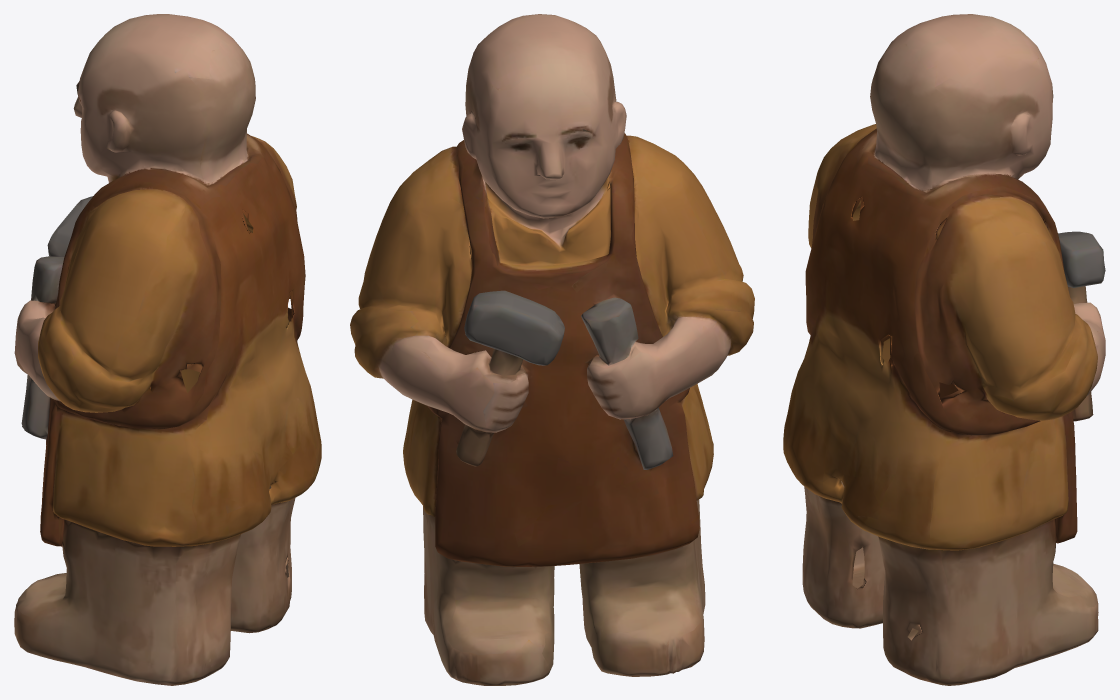
Rendered from piece-mason.glb.
The picture shows the model from 3 angles, left to right: view 1: azimuth 30°, elevation 25°; view 2: azimuth 150°, elevation 25°; view 3: azimuth 270°, elevation 25°; orthographic projection. The views are drawn at different scales.
Parts seen in each view (by area): view 1: world; view 2: world; view 3: world.
Boxes of the visible parts, <box> form: world: <box>14,14,321,685</box>; world: <box>350,14,754,685</box>; world: <box>783,14,1105,685</box>.
Size of the model in its own units: 0.4637 by 0.86 by 0.4138.
Materials: 1 (1 with a texture image).
